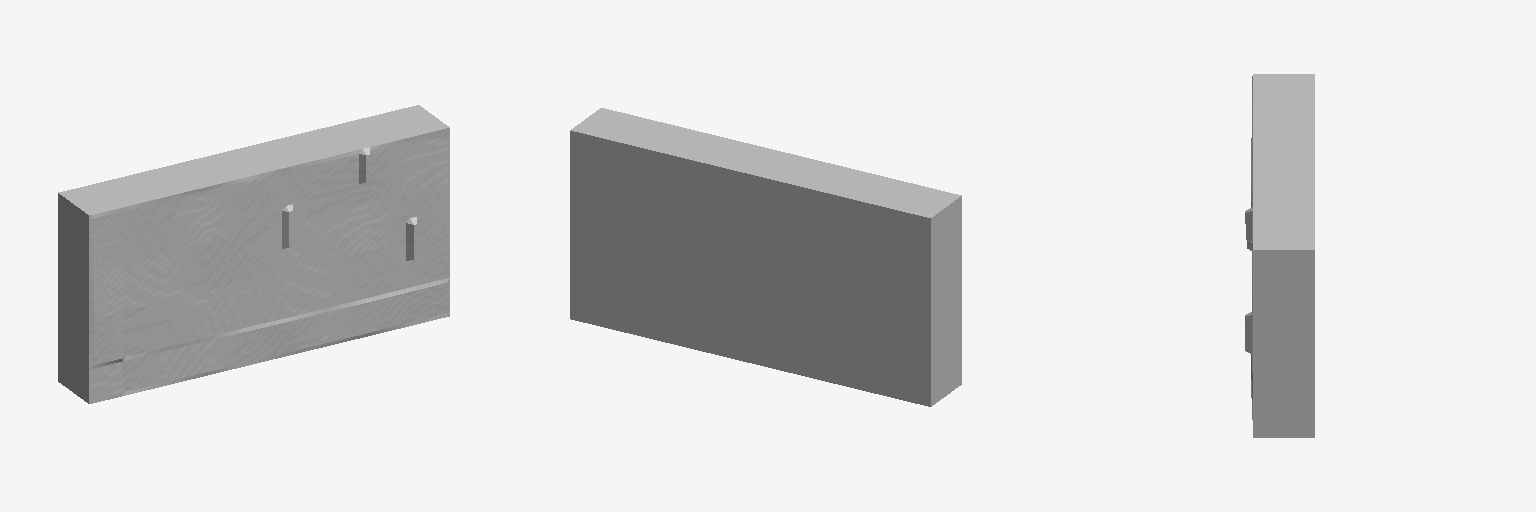
File: rectangular_prism_bumps_3_3.obj
The picture shows the model from 3 angles: view 1: azimuth 30°, elevation 25°; view 2: azimuth 150°, elevation 25°; view 3: azimuth 270°, elevation 25°; orthographic projection.
Bounding box in the file's own units: 10 × 5 × 1.69.